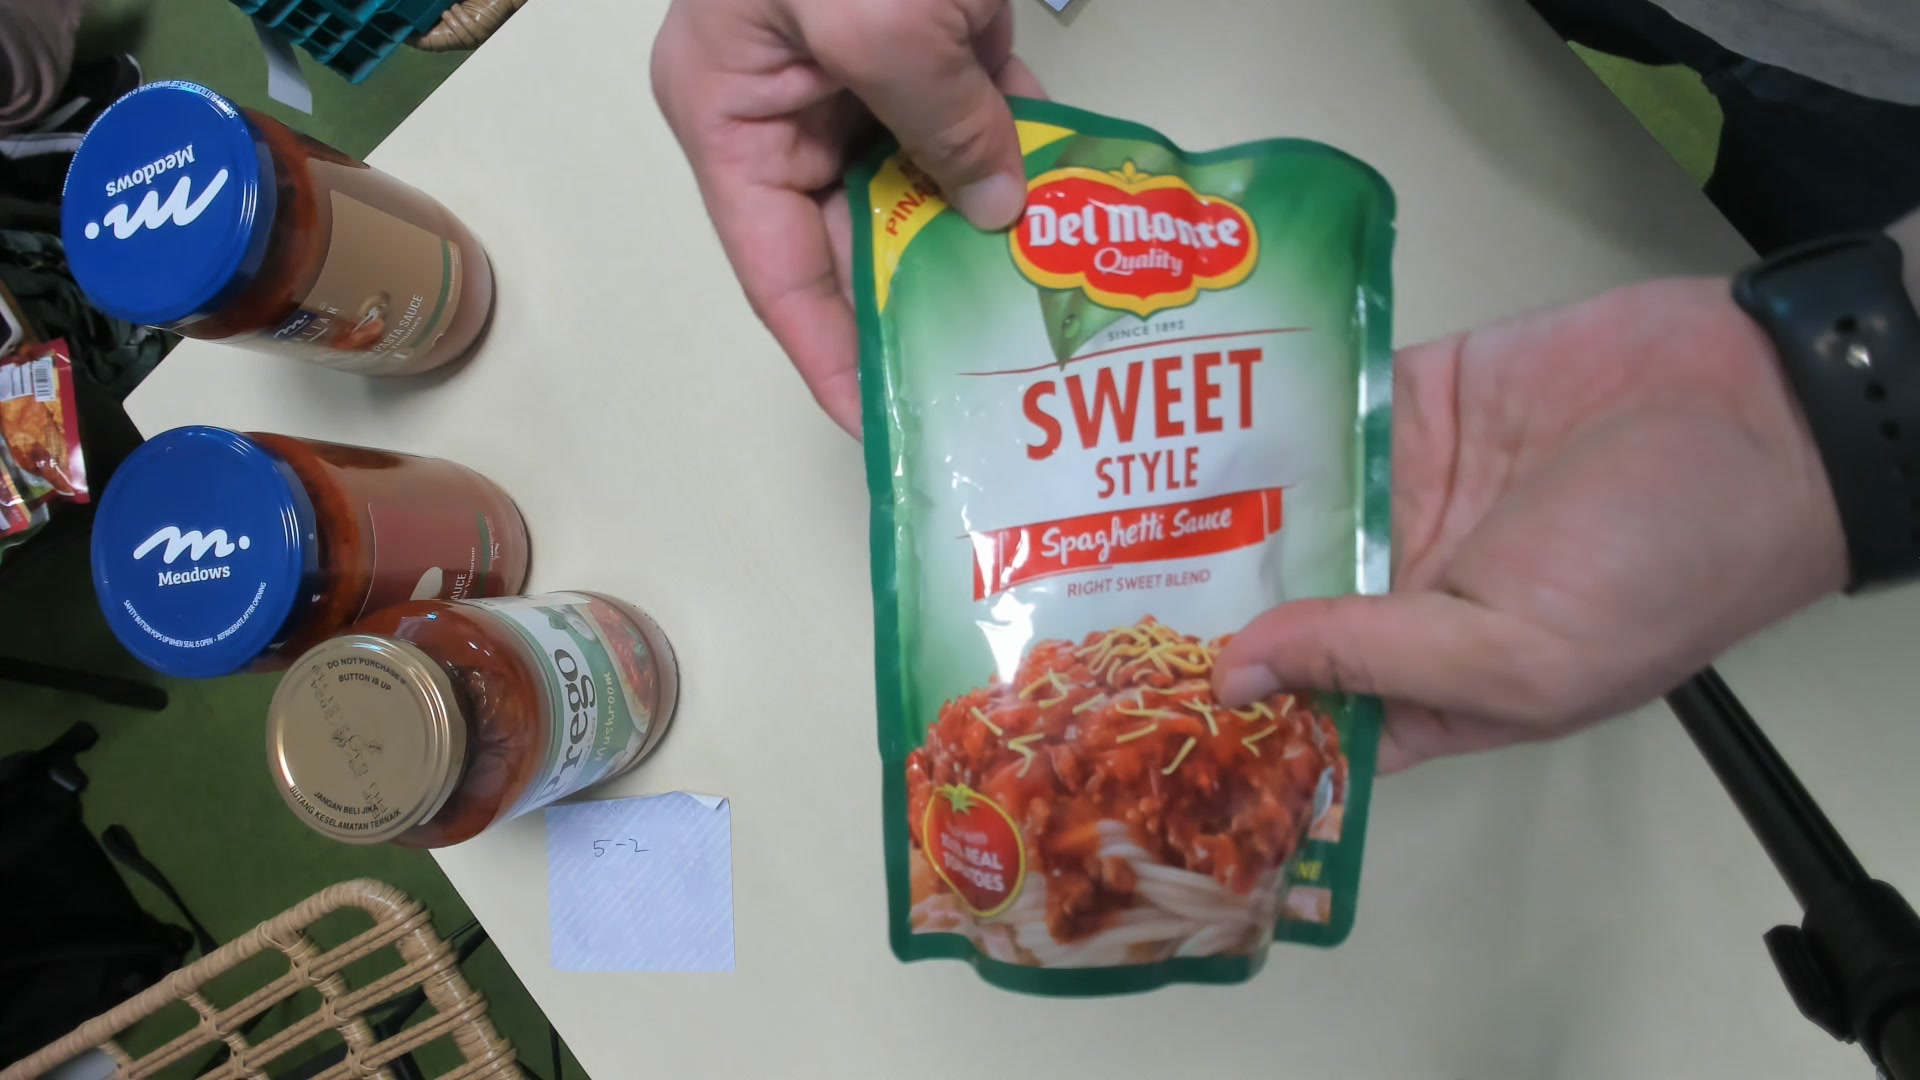PastaSauce_500-599g_Halal_NonHealthy: (862, 95, 1385, 990)
